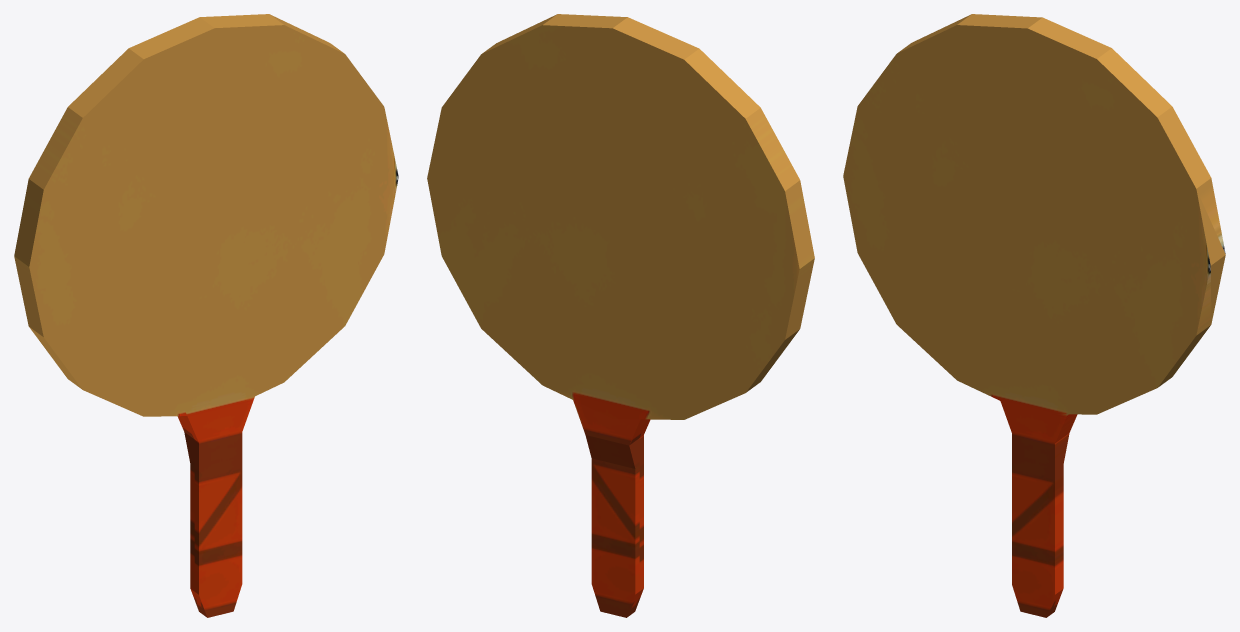
The model's file is Matka.glb.
3 renders of one model, left to right at view 1: azimuth 30°, elevation 25°; view 2: azimuth 150°, elevation 25°; view 3: azimuth 330°, elevation 25°, orthographic.
Visible parts, largest first — view 1: Matka; view 2: Matka; view 3: Matka.
Boxes of the visible parts, bbox=[...] form: Matka: bbox=[14, 14, 398, 617]; Matka: bbox=[427, 14, 814, 617]; Matka: bbox=[843, 14, 1225, 617].
Bounding box in the file's own units: 42.53 × 64.67 × 3.01.
1 material, 1 textured.
